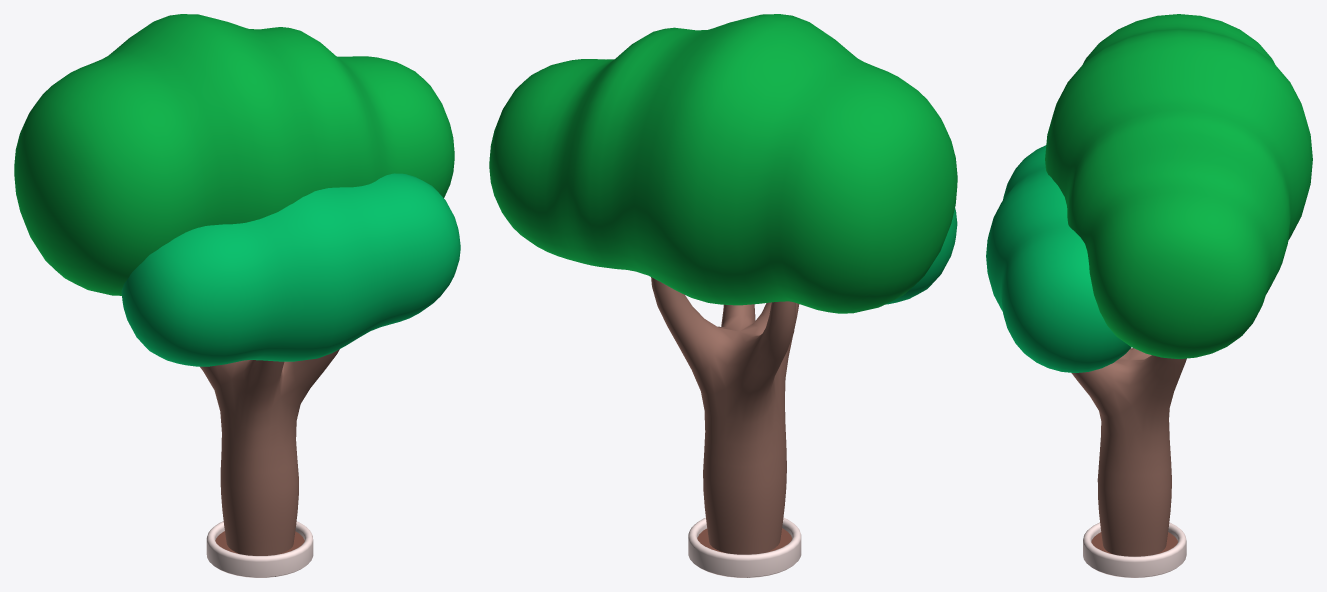
Rendered from City_11_Tree_2.glb.
3 views of the same model, side by side, from view 1: azimuth 30°, elevation 25°; view 2: azimuth 150°, elevation 25°; view 3: azimuth 270°, elevation 25° (orthographic). The views are drawn at different scales.
Visible parts, largest first — view 1: City_11_Tree_2; view 2: City_11_Tree_2; view 3: City_11_Tree_2.
Boxes of the visible parts, bbox=[...] form: City_11_Tree_2: bbox=[14, 14, 460, 577]; City_11_Tree_2: bbox=[489, 14, 957, 577]; City_11_Tree_2: bbox=[986, 14, 1312, 577].
Size of the model in its own units: 6.1 by 7.55 by 4.42.
1 material, 1 textured.
